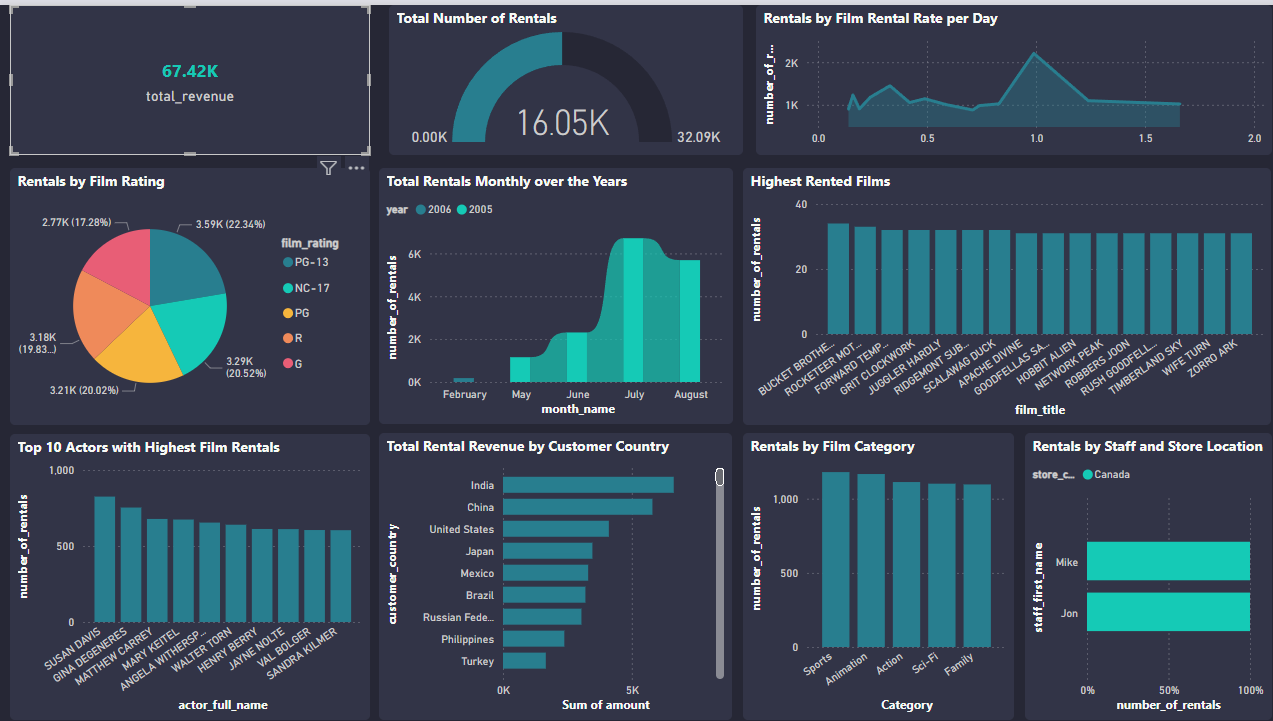

The page's visual inventory and layout, read from the dashboard file:
{"tool":"powerbi","page":{"name":"Page 1","canvas":[1280,720],"ordinal":0},"visuals":[{"type":"pieChart","title":"Rentals by Film Rating","fields":{"Category":["dim_film.film_rating"],"Y":["fact_rental.rental_id"]},"box":[11,163,360,257],"z":0},{"type":"columnChart","title":"Top 10 Actors with Highest Film Rentals","fields":{"Y":["fact_rental.rental_id"],"Category":["dim_actor.actor_full_name"]},"box":[11.2,429.3,359.8,285.4],"z":1000},{"type":"clusteredColumnChart","title":"Rentals by Film Category","fields":{"Category":["num_of_categories.Category"],"Y":["OutputTable.Count"]},"box":[743.6,428.2,271.8,286.4],"z":2000},{"type":"clusteredBarChart","title":"Total Rental Revenue by Customer Country","fields":{"Category":["dim_customer.customer_country"],"Y":["fact_rental.amount"]},"box":[380,428.2,352.7,286.4],"z":3000},{"type":"ribbonChart","title":"Total Rentals Monthly over the Years","fields":{"Category":["dim_date.month_name"],"Series":["dim_date.year"],"Y":["fact_rental.rental_id"]},"box":[380,163,354,256],"z":4000},{"type":"hundredPercentStackedBarChart","title":"Rentals by Staff and Store Location","fields":{"Y":["fact_rental.rental_id"],"Category":["dim_staff.staff_first_name"],"Series":["dim_store.store_country"]},"box":[1026,428,247,287],"z":5000},{"type":"clusteredColumnChart","title":"Highest Rented Films","fields":{"Y":["fact_rental.rental_id"],"Category":["dim_film.film_title"]},"box":[744,163,528,257],"z":6000},{"type":"card","fields":{"Values":["fact_rental.amount"]},"box":[10.9,0,360,150],"z":7000},{"type":"stackedAreaChart","title":"Rentals by Film Rental Rate per Day","fields":{"Y":["fact_rental.rental_id"],"Category":["dim_film.film_rental_rate_per_day"]},"box":[757.3,0,515.5,150],"z":8000},{"type":"gauge","fields":{"Y":["fact_rental.rental_id"]},"box":[390,0,353.6,150],"z":9000}]}

Visuals, with their boxes in screenshot pixels (x1, y1, x2, y2), scaled from the page's 1280x720 canvas onto the 1273x721 screenshot:
"Rentals by Film Rating" pieChart: bbox(11, 163, 369, 421)
"Top 10 Actors with Highest Film Rentals" columnChart: bbox(11, 430, 369, 716)
"Rentals by Film Category" clusteredColumnChart: bbox(740, 429, 1010, 716)
"Total Rental Revenue by Customer Country" clusteredBarChart: bbox(378, 429, 729, 716)
"Total Rentals Monthly over the Years" ribbonChart: bbox(378, 163, 730, 420)
"Rentals by Staff and Store Location" hundredPercentStackedBarChart: bbox(1020, 429, 1266, 716)
"Highest Rented Films" clusteredColumnChart: bbox(740, 163, 1265, 421)
card - fact_rental.amount: bbox(11, 0, 369, 150)
"Rentals by Film Rental Rate per Day" stackedAreaChart: bbox(753, 0, 1266, 150)
gauge - fact_rental.rental_id: bbox(388, 0, 740, 150)
